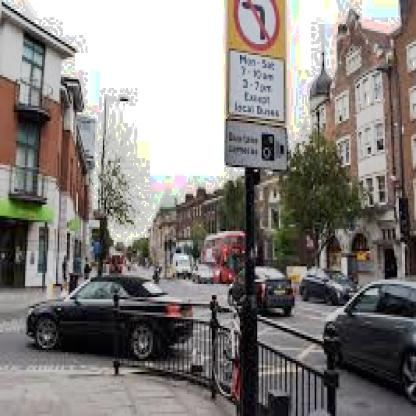No left turn: (224, 0, 288, 53)
